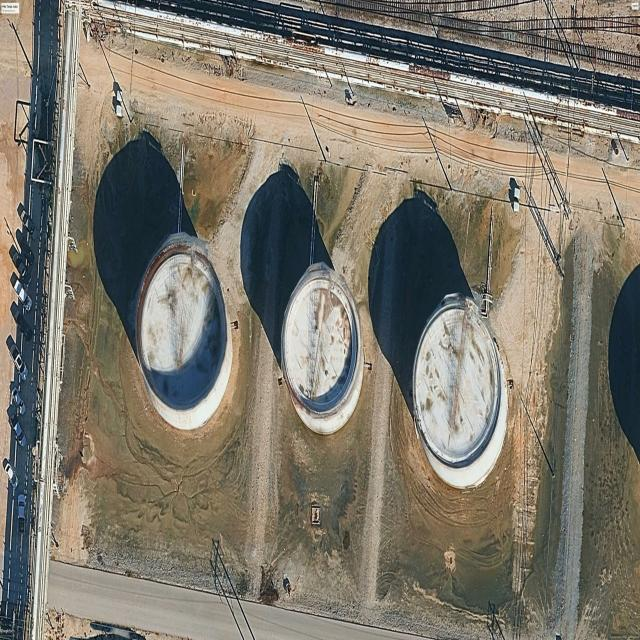Oil Rafinery: (136, 234, 232, 429), (413, 294, 507, 488), (281, 262, 364, 434)
